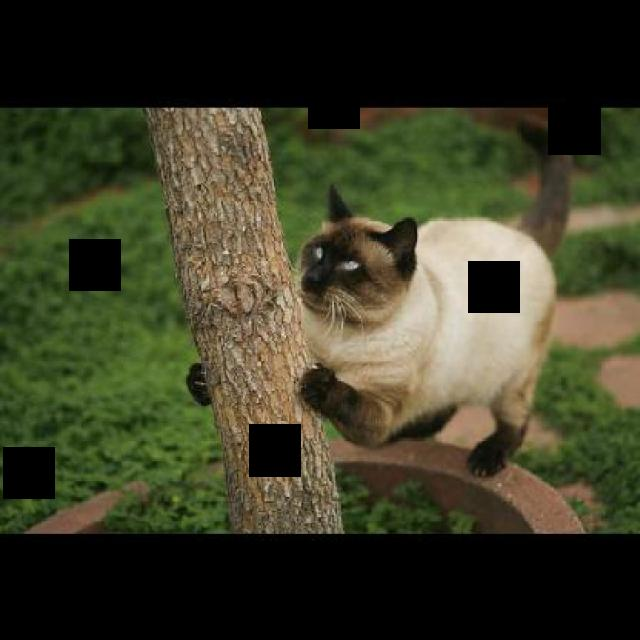unauthorized: (184, 111, 574, 478)
